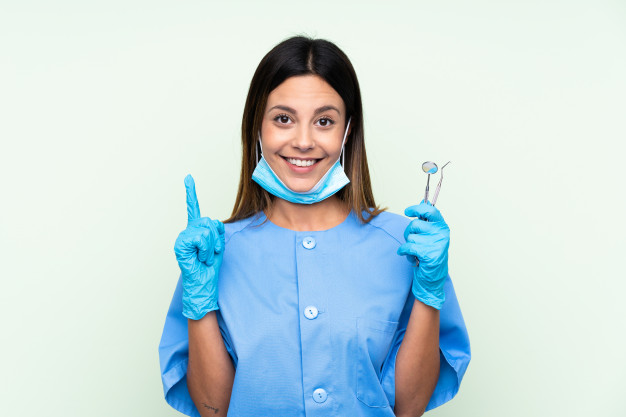mask_weared_incorrect: (250, 82, 355, 209)
